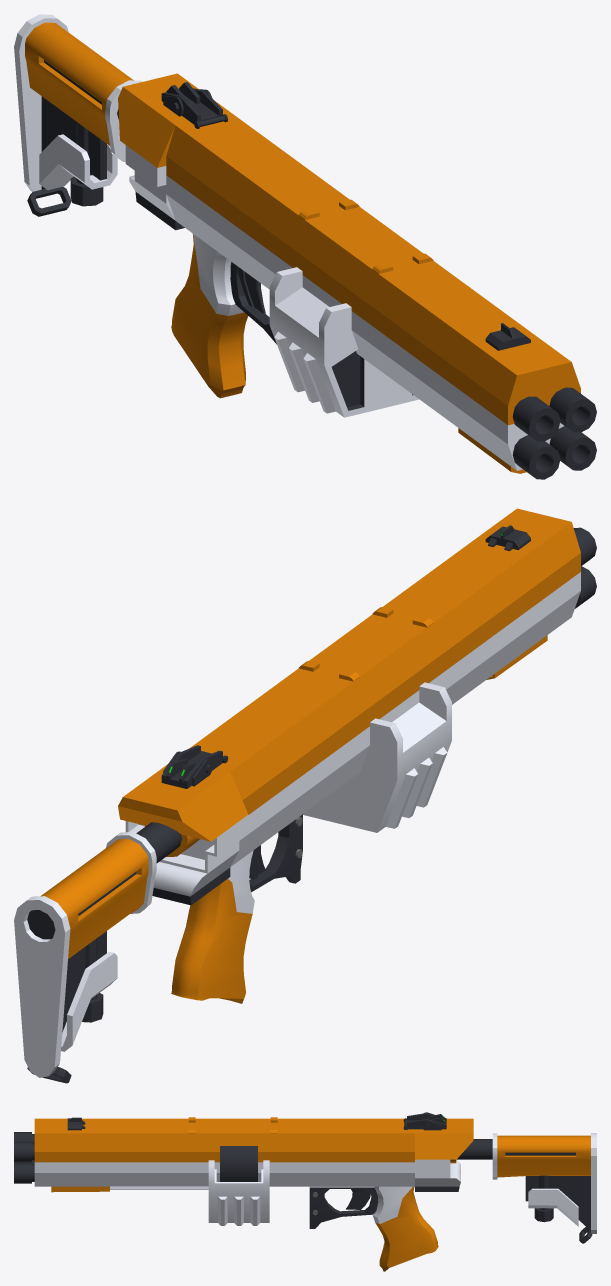
Rendered from shotgun2.fbx.
The picture shows the model from 3 angles, top to bottom: view 1: azimuth 30°, elevation 25°; view 2: azimuth 150°, elevation 25°; view 3: azimuth 270°, elevation 25°; orthographic projection. The views are drawn at different scales.
Visible parts, largest first — view 1: mergedBlocks; view 2: mergedBlocks; view 3: mergedBlocks.
Boxes of the visible parts, box(x1,y1,x2,y2) form: mergedBlocks: box(14, 14, 596, 479); mergedBlocks: box(14, 508, 596, 1083); mergedBlocks: box(14, 1112, 596, 1271).
Bounding box in the file's own units: 7.7 × 14.36 × 49.68.
